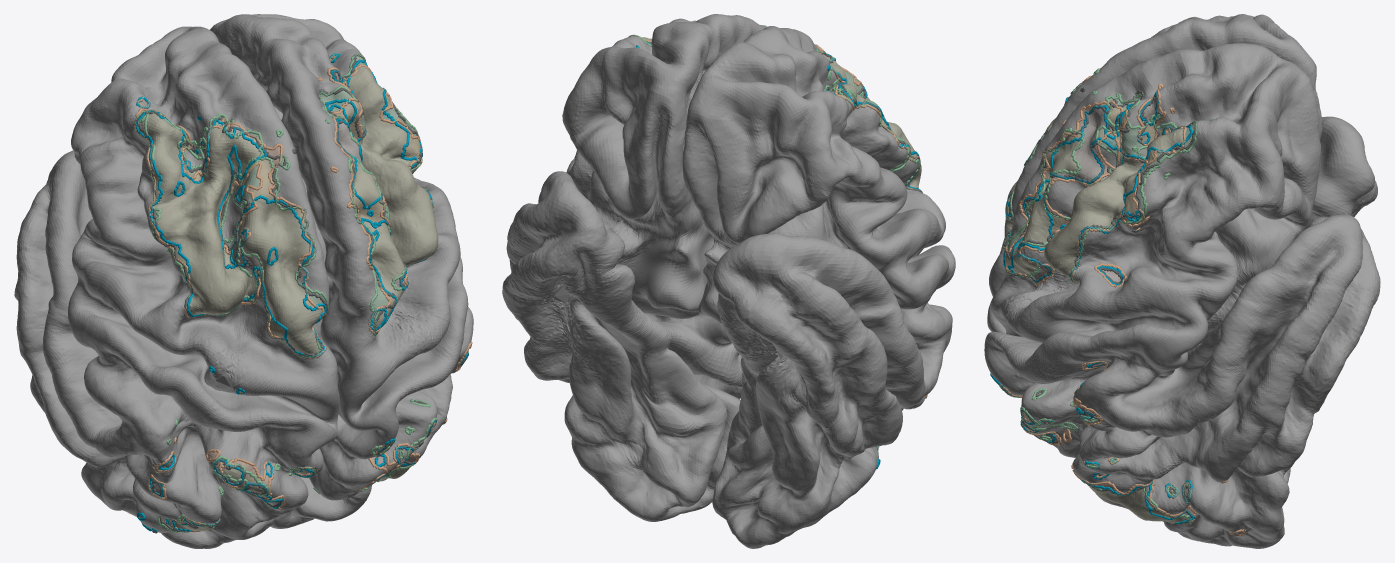
Rendered from anterior_putamen_composite_marginal.glb.
3 renders of one model, left to right at view 1: azimuth 30°, elevation 25°; view 2: azimuth 150°, elevation 25°; view 3: azimuth 270°, elevation 25°, orthographic. The views are drawn at different scales.
Visible parts, largest first — view 1: world; view 2: world; view 3: world.
Part boxes in pixels (left/top/right/bottom): world: left=14, top=14, right=473, bottom=548; world: left=502, top=14, right=955, bottom=548; world: left=984, top=14, right=1380, bottom=548.
Bounding box in the file's own units: 139 × 174 × 127.
